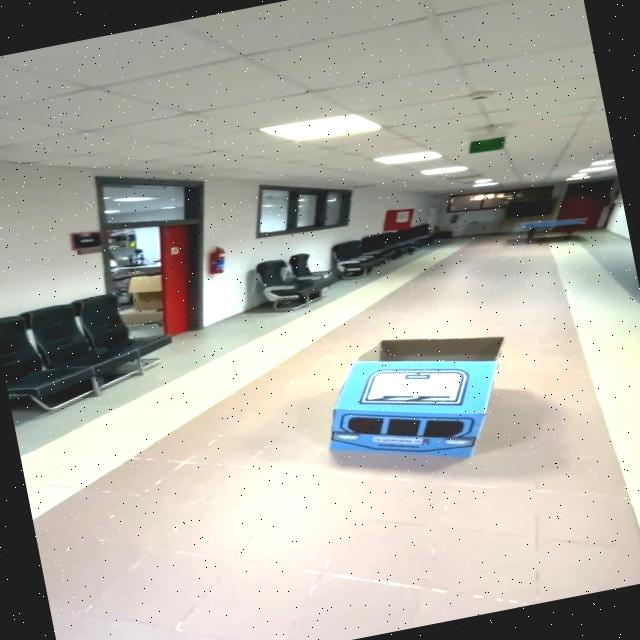blue_car: (261, 306, 557, 499)
